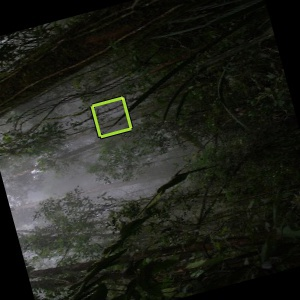square: (89, 95, 135, 140)
